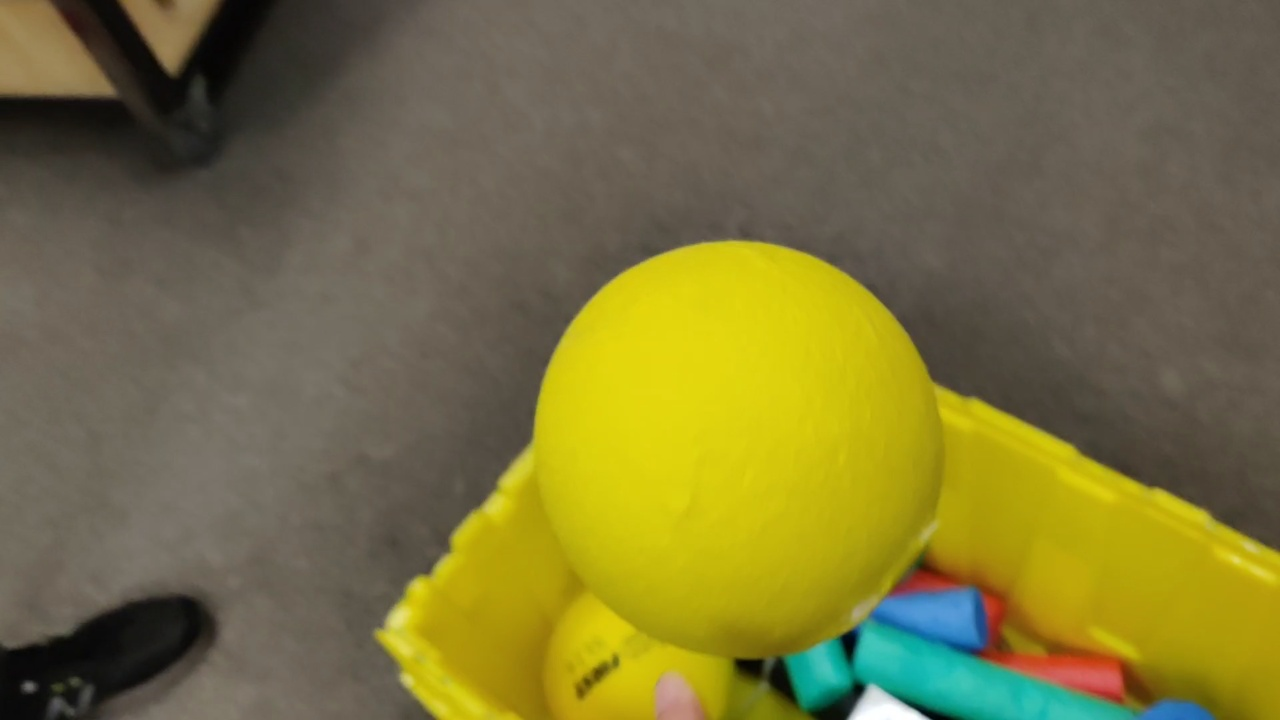Ball: (541, 243, 947, 655), (539, 588, 736, 720)
